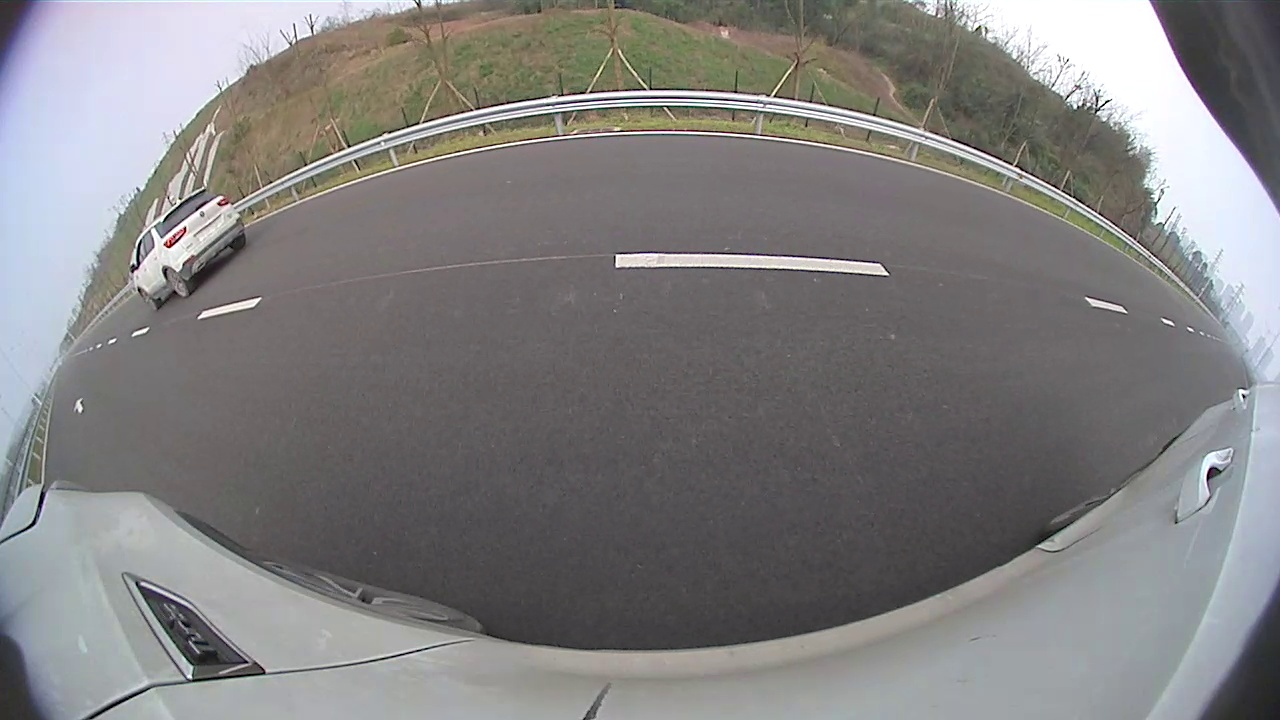car: (128, 186, 247, 311)
rear: (163, 266, 193, 299)
